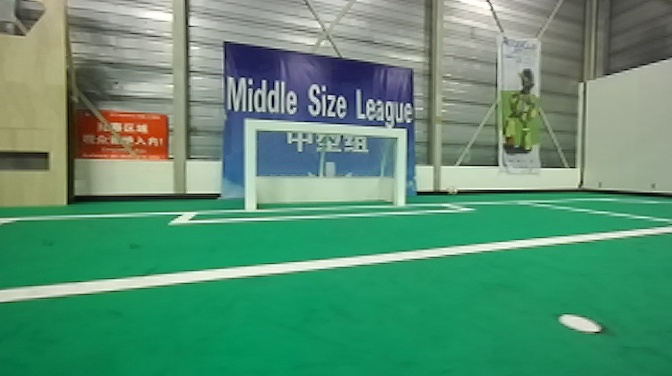goalpost: (385, 120, 411, 211), (240, 113, 263, 211)
